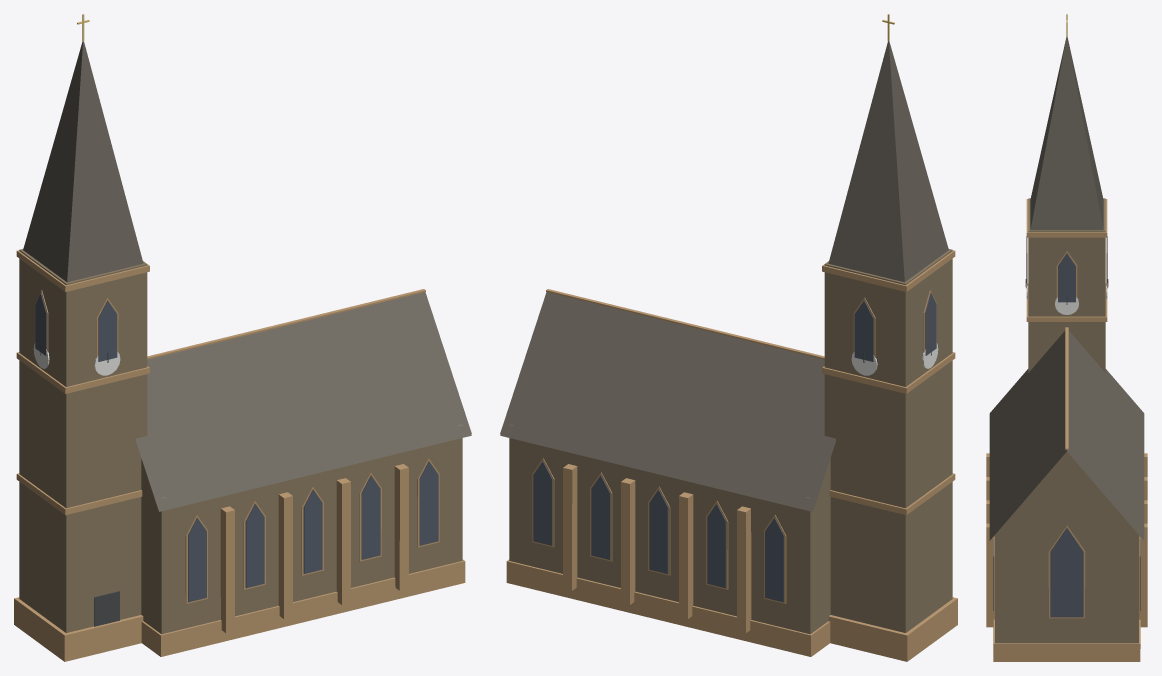
Rendered from town-church-lod1.glb.
The picture shows the model from 3 angles, left to right: view 1: azimuth 30°, elevation 25°; view 2: azimuth 150°, elevation 25°; view 3: azimuth 270°, elevation 25°; orthographic projection. The views are drawn at different scales.
Visible parts, largest first — view 1: town-church-frames.001; view 2: town-church-frames.001; view 3: town-church-frames.001.
Boxes of the visible parts, box(x1,y1,x2,y2) form: town-church-frames.001: box(14, 14, 471, 661); town-church-frames.001: box(500, 14, 957, 661); town-church-frames.001: box(986, 14, 1147, 661).
Size of the model in its own units: 33.29 by 50.99 by 14.59.
